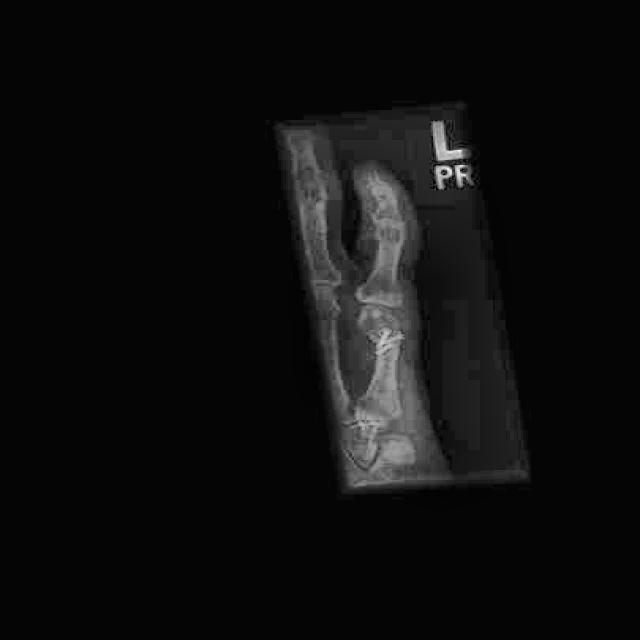fingers positive: (364, 324, 410, 356)
